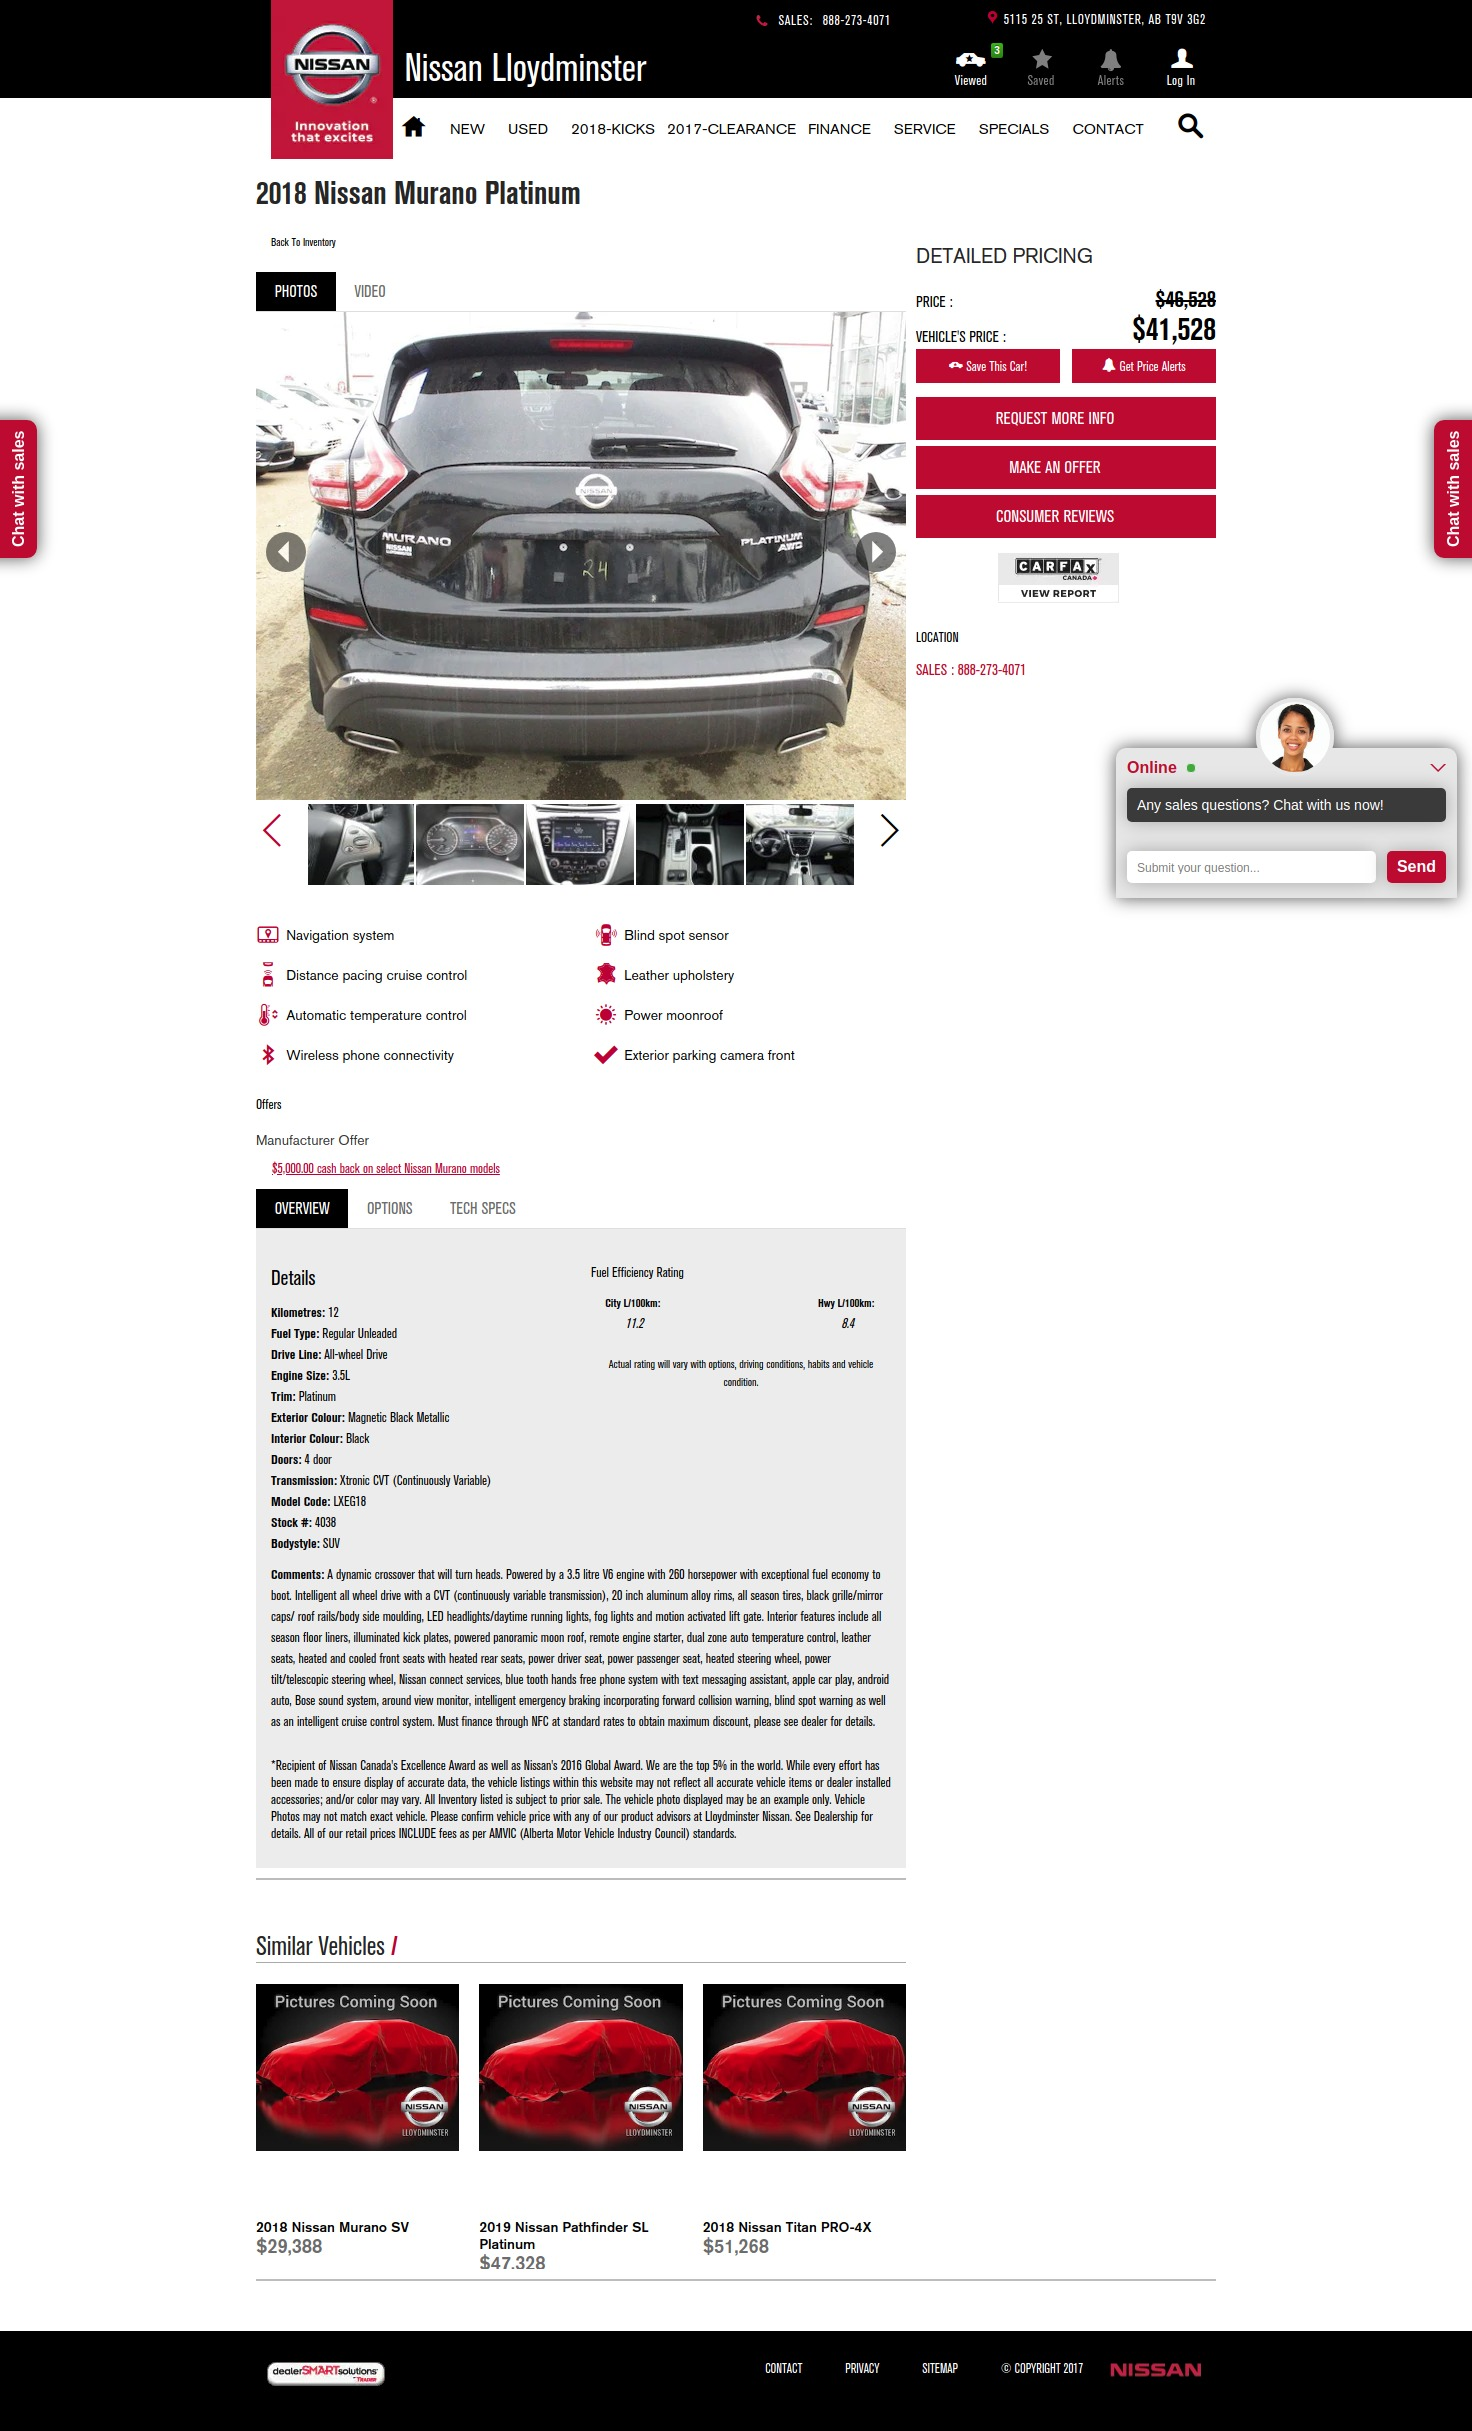car: (880, 814, 903, 847)
